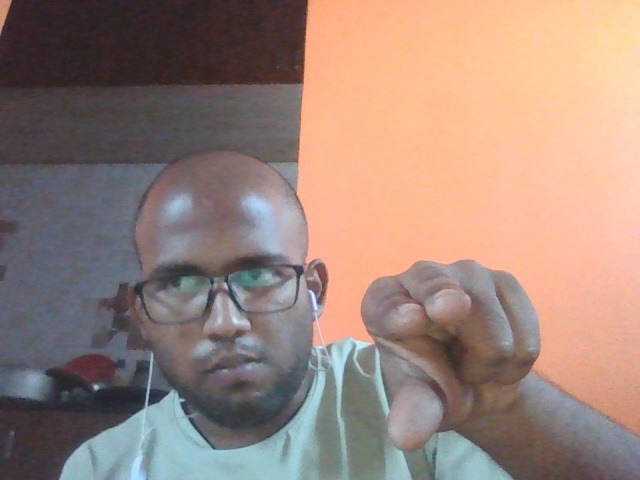no: (323, 244, 593, 472)
